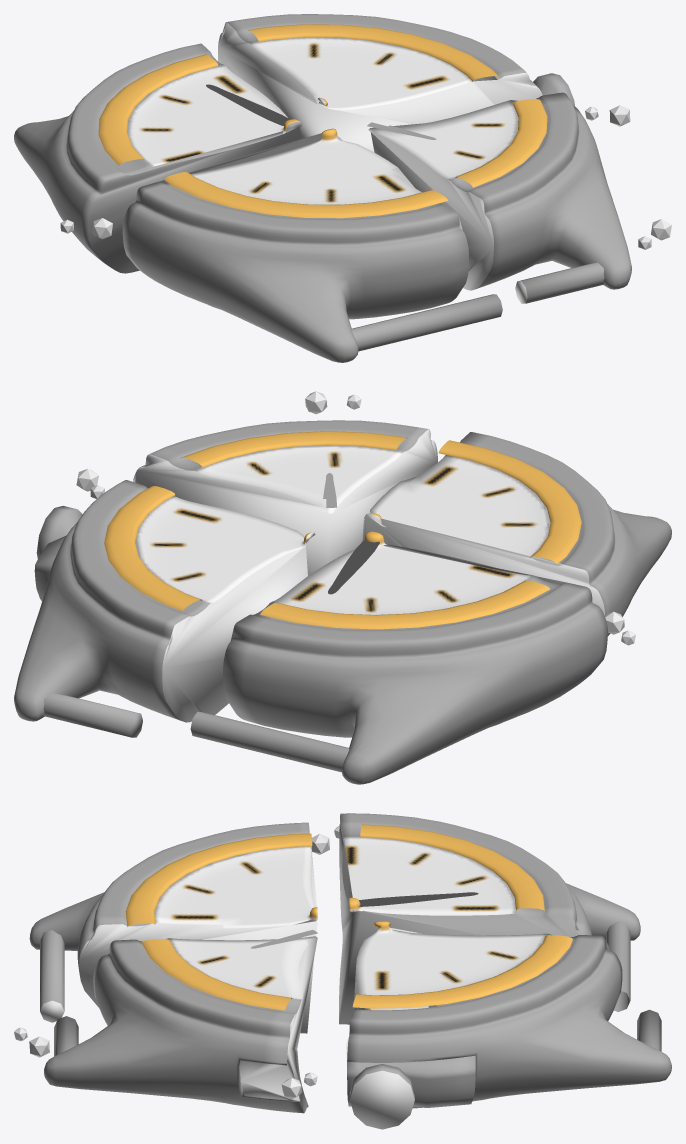
Rendered from Chapter02_Watch_Broken.fbx.
3 views of the same model, one above another, from view 1: azimuth 30°, elevation 25°; view 2: azimuth 150°, elevation 25°; view 3: azimuth 270°, elevation 25° (orthographic). The views are drawn at different scales.
Parts seen in each view (by area): view 1: Watch_Broken_Part3, Watch_Broken_Part4, Watch_Broken_Part1, Watch_Broken_Part2, Watch_Broken_Ruins; view 2: Watch_Broken_Part1, Watch_Broken_Part2, Watch_Broken_Part3, Watch_Broken_Part4, Watch_Broken_Ruins; view 3: Watch_Broken_Part2, Watch_Broken_Part4, Watch_Broken_Part1, Watch_Broken_Part3, Watch_Broken_Ruins.
Boxes of the visible parts, <box> form: Watch_Broken_Part3: <box>122,128,502,362</box>; Watch_Broken_Part4: <box>367,92,631,303</box>; Watch_Broken_Part1: <box>14,43,302,273</box>; Watch_Broken_Part2: <box>218,14,574,152</box>; Watch_Broken_Ruins: <box>60,105,671,249</box>; Watch_Broken_Part1: <box>190,531,607,784</box>; Watch_Broken_Part2: <box>14,480,315,737</box>; Watch_Broken_Part3: <box>362,432,671,636</box>; Watch_Broken_Part4: <box>133,420,437,575</box>; Watch_Broken_Ruins: <box>76,391,635,645</box>; Watch_Broken_Part2: <box>346,921,671,1129</box>; Watch_Broken_Part4: <box>44,930,317,1113</box>; Watch_Broken_Part1: <box>339,813,640,1024</box>; Watch_Broken_Part3: <box>29,822,317,1033</box>; Watch_Broken_Ruins: <box>14,826,339,1098</box>.
Size of the model in its own units: 724 by 148 by 764.
